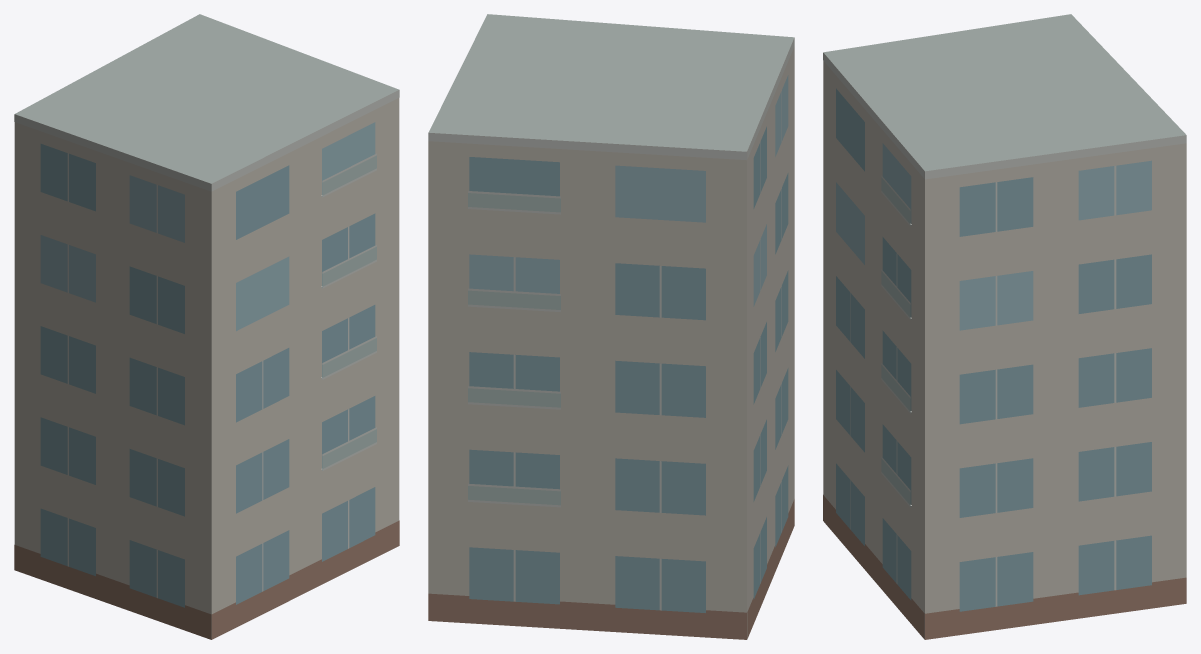
File: survey-upis-32641600.glb
The picture shows the model from 3 angles, left to right: view 1: azimuth 30°, elevation 25°; view 2: azimuth 150°, elevation 25°; view 3: azimuth 270°, elevation 25°; orthographic projection. The views are drawn at different scales.
Visible parts, largest first — view 1: survey-upis-32641600.tmp; view 2: survey-upis-32641600.tmp; view 3: survey-upis-32641600.tmp.
Part boxes in pixels (x1,y1,x2,y2): survey-upis-32641600.tmp: (14,14,399,639); survey-upis-32641600.tmp: (428,14,794,639); survey-upis-32641600.tmp: (823,14,1186,639).
Bounding box in the file's own units: 10.16 × 14.1 × 9.93.
